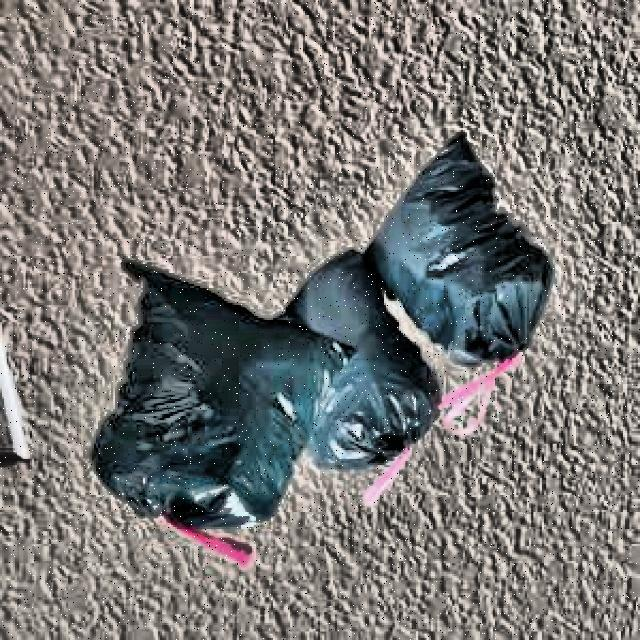Trashbag: (86, 247, 311, 544), (400, 126, 559, 376), (276, 242, 430, 476)
